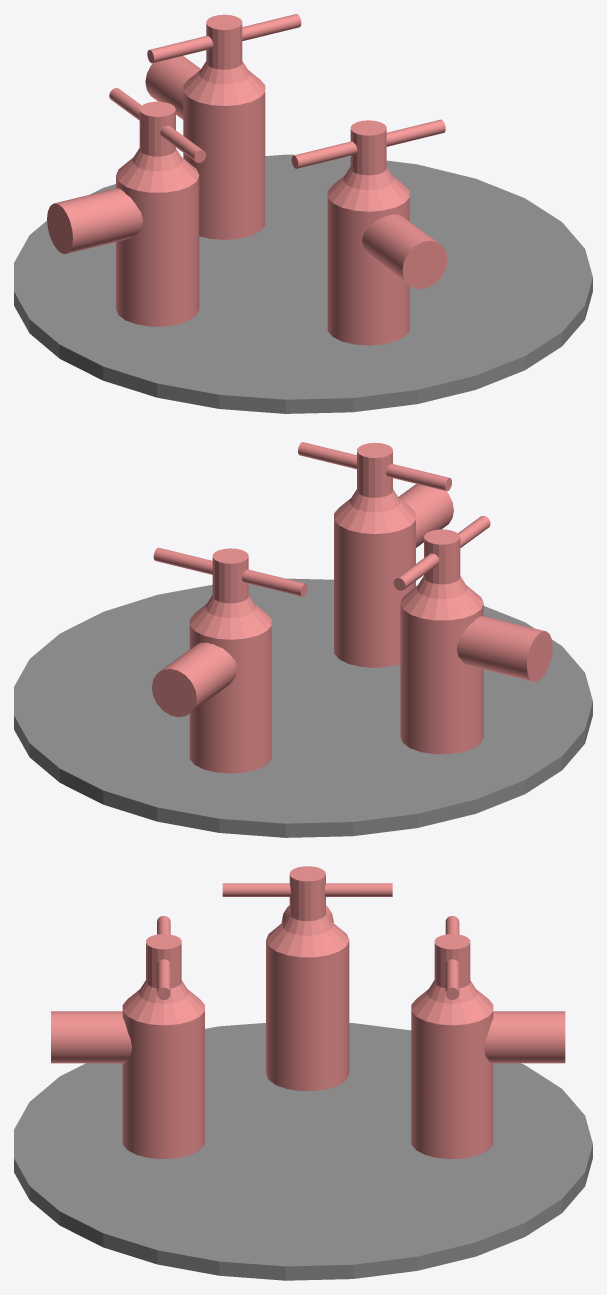
The model's file is SM_NalivSUG.gltf.
3 renders of one model, top to bottom at view 1: azimuth 30°, elevation 25°; view 2: azimuth 150°, elevation 25°; view 3: azimuth 270°, elevation 25°, orthographic.
Parts seen in each view (by area): view 1: SM_NalivSUG; view 2: SM_NalivSUG; view 3: SM_NalivSUG.
Boxes of the visible parts, <box> form: SM_NalivSUG: <box>14,14,592,413</box>; SM_NalivSUG: <box>14,442,592,837</box>; SM_NalivSUG: <box>14,866,592,1280</box>.
Bounding box in the file's own units: 0.7387 × 0.3021 × 0.7375.
